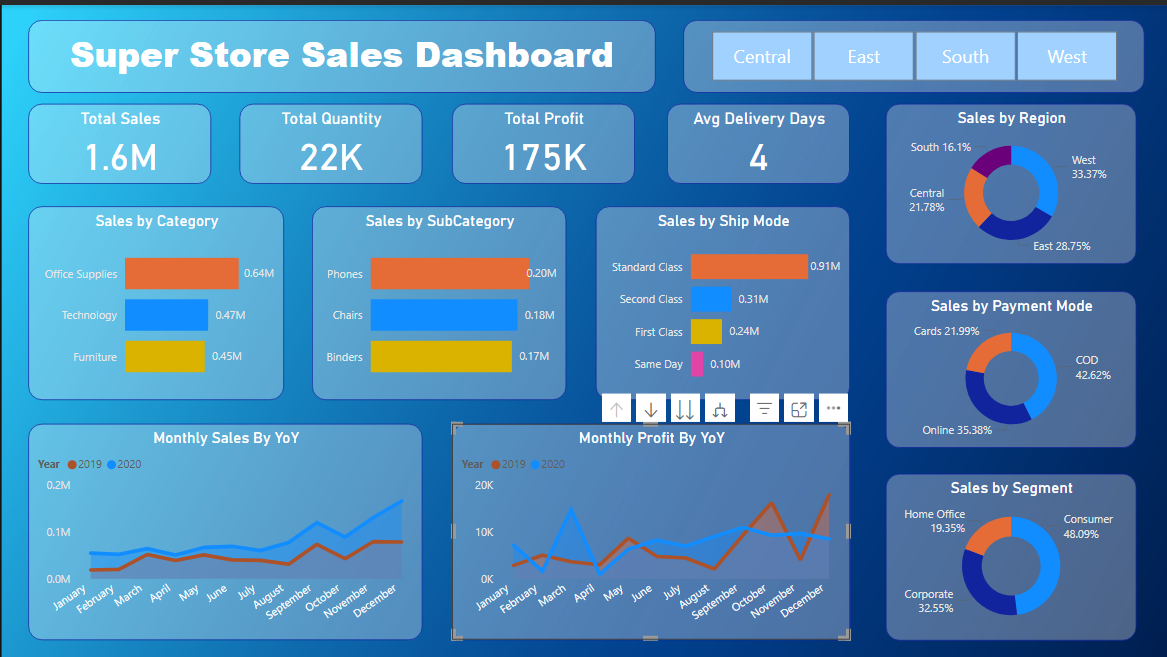

What the dashboard file says about the page in this screenshot:
{"tool":"powerbi","page":{"name":"Page 1","canvas":[1280,720],"ordinal":0},"visuals":[{"type":"clusteredBarChart","title":"Sales by Category","fields":{"Category":["SuperStore_Sales_Dataset.Category"],"Y":["Sum(SuperStore_Sales_Dataset.Sales)"]},"box":[28.9,221.4,280.5,213.2],"z":0},{"type":"clusteredBarChart","title":"Sales by SubCategory","fields":{"Category":["SuperStore_Sales_Dataset.Sub-Category"],"Y":["Sum(SuperStore_Sales_Dataset.Sales)"]},"box":[339.7,221.4,279.2,213.2],"z":1000},{"type":"clusteredBarChart","title":"Sales by Ship Mode","fields":{"Category":["SuperStore_Sales_Dataset.Ship Mode"],"Y":["Sum(SuperStore_Sales_Dataset.Sales)"]},"box":[651.8,221.4,279.2,213.2],"z":2000},{"type":"areaChart","title":"Monthly Sales By YoY","fields":{"Y":["Sum(SuperStore_Sales_Dataset.Sales)"],"Category":["SuperStore_Sales_Dataset.Order Date.Variation.Date Hierarchy.Month","SuperStore_Sales_Dataset.Order Date.Variation.Date Hierarchy.Day"],"Series":["SuperStore_Sales_Dataset.Order Date.Variation.Date Hierarchy.Year"]},"box":[28.9,459.3,433.2,237.9],"z":3000},{"type":"areaChart","title":"Monthly Profit By YoY","fields":{"Category":["SuperStore_Sales_Dataset.Order Date.Variation.Date Hierarchy.Month","SuperStore_Sales_Dataset.Order Date.Variation.Date Hierarchy.Day"],"Series":["SuperStore_Sales_Dataset.Order Date.Variation.Date Hierarchy.Year"],"Y":["Sum(SuperStore_Sales_Dataset.Profit)"]},"box":[493.7,459.3,437.3,237.9],"z":4000},{"type":"donutChart","title":"Sales by Segment","fields":{"Category":["SuperStore_Sales_Dataset.Segment"],"Y":["Sum(SuperStore_Sales_Dataset.Sales)"]},"box":[969.5,514.3,275,182.9],"z":5000},{"type":"donutChart","title":"Sales by Payment Mode","fields":{"Category":["SuperStore_Sales_Dataset.Payment Mode"],"Y":["Sum(SuperStore_Sales_Dataset.Sales)"]},"box":[969.5,314.9,275,171.9],"z":6000},{"type":"slicer","fields":{"Values":["SuperStore_Sales_Dataset.Region"]},"box":[748.1,16.5,506.1,79.8],"z":7000},{"type":"textbox","box":[28.9,16.5,689,79.8],"z":8000},{"type":"card","title":"Total Sales","fields":{"Values":["Sum(SuperStore_Sales_Dataset.Sales)"]},"box":[28.9,108.6,200.8,88],"z":9000},{"type":"card","title":"Total Quantity","fields":{"Values":["Sum(SuperStore_Sales_Dataset.Quantity)"]},"box":[261.3,108.6,200.8,88],"z":10000},{"type":"card","title":"Total Profit","fields":{"Values":["Sum(SuperStore_Sales_Dataset.Profit)"]},"box":[493.7,108.6,200.8,88],"z":11000},{"type":"card","title":"Avg Delivery Days","fields":{"Values":["Avg(SuperStore_Sales_Dataset.AvgDelivery)"]},"box":[730.2,108.6,200.8,88],"z":12000},{"type":"donutChart","title":"Sales by Region","fields":{"Category":["SuperStore_Sales_Dataset.Region"],"Y":["Sum(SuperStore_Sales_Dataset.Sales)"]},"box":[969.5,108.6,275,176],"z":13000}]}

Visuals, with their boxes in screenshot pixels (x1, y1, x2, y2), scaled from the page's 1280x720 canvas onto the 1167x657 screenshot:
"Sales by Category" clusteredBarChart: 26/202/282/397
"Sales by SubCategory" clusteredBarChart: 310/202/564/397
"Sales by Ship Mode" clusteredBarChart: 594/202/849/397
"Monthly Sales By YoY" areaChart: 26/419/421/636
"Monthly Profit By YoY" areaChart: 450/419/849/636
"Sales by Segment" donutChart: 884/469/1135/636
"Sales by Payment Mode" donutChart: 884/287/1135/444
slicer - SuperStore_Sales_Dataset.Region: 682/15/1143/88
textbox: 26/15/655/88
"Total Sales" card: 26/99/209/179
"Total Quantity" card: 238/99/421/179
"Total Profit" card: 450/99/633/179
"Avg Delivery Days" card: 666/99/849/179
"Sales by Region" donutChart: 884/99/1135/260
